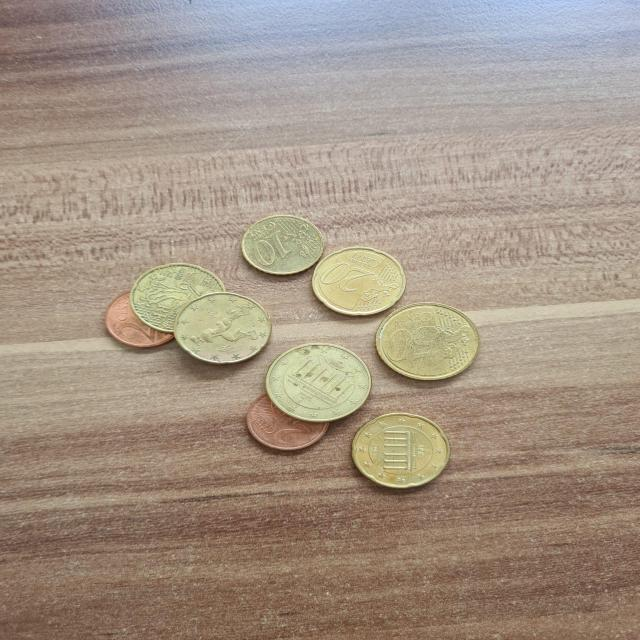10c: (234, 208, 332, 283)
20c: (346, 411, 456, 491), (168, 290, 278, 370), (306, 240, 411, 322), (124, 258, 236, 334)
2c: (238, 387, 340, 457), (98, 291, 178, 352)
50c: (256, 340, 380, 428), (366, 300, 489, 386)
